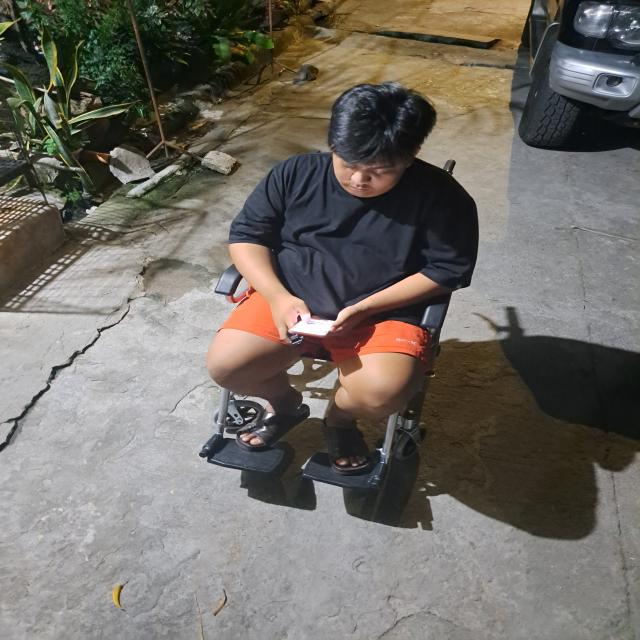wheelchairs: (179, 226, 462, 502)
